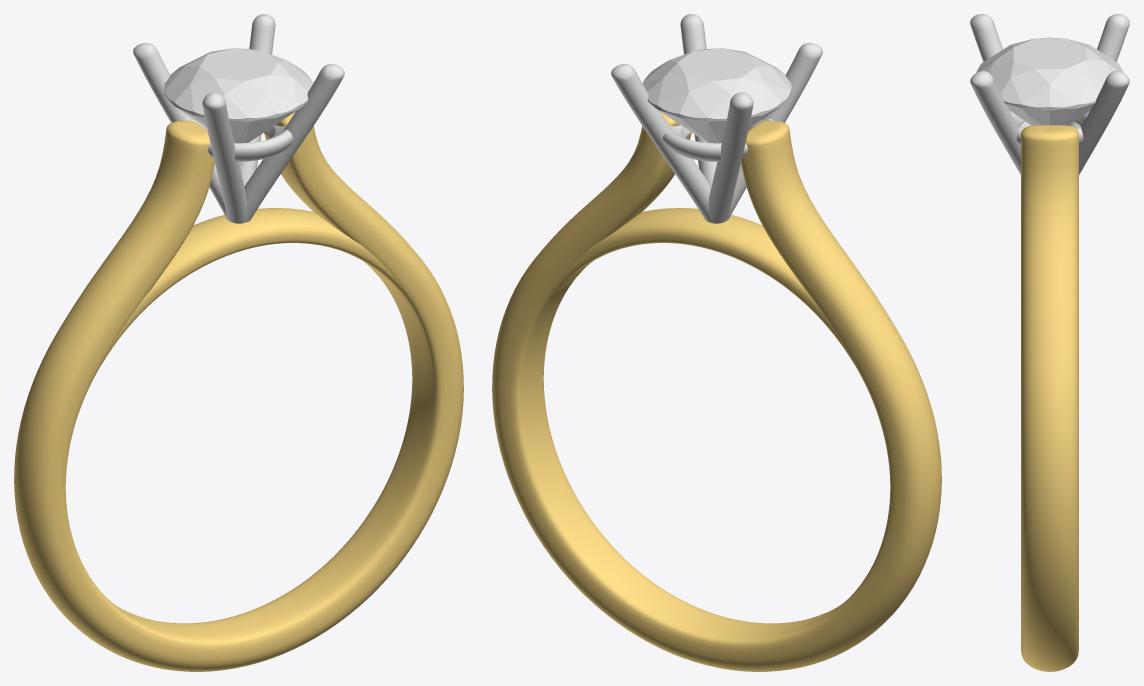
Rendered from PlainBand.glb.
3 views of the same model, side by side, from view 1: azimuth 30°, elevation 25°; view 2: azimuth 150°, elevation 25°; view 3: azimuth 270°, elevation 25° (orthographic).
Visible parts, largest first — view 1: shank, head, diamond; view 2: shank, head, diamond; view 3: shank, diamond, head.
Boxes of the visible parts, box(x1,y1,x2,y2) form: shank: box(14, 111, 463, 671); head: box(133, 14, 344, 223); diamond: box(164, 48, 313, 143); shank: box(492, 111, 941, 671); head: box(611, 14, 822, 223); diamond: box(642, 48, 791, 143); shank: box(1021, 125, 1078, 671); diamond: box(976, 37, 1123, 125); head: box(970, 14, 1129, 174).
Bounding box in the file's own units: 21.75 × 28.76 × 6.88.
